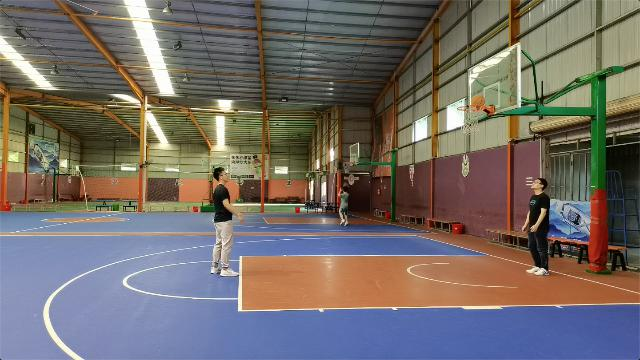ball: (471, 94, 485, 106)
basket: (457, 104, 485, 135)
